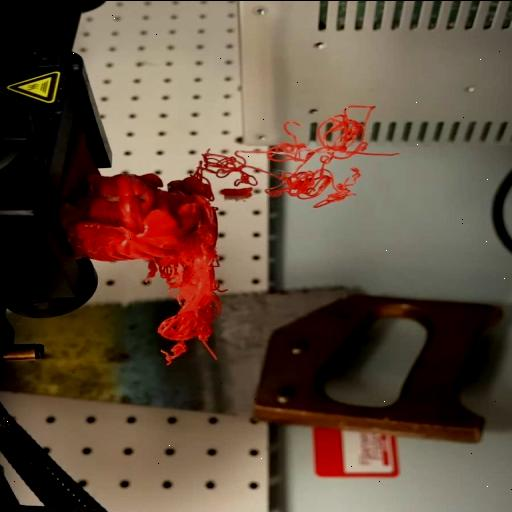spaghetti: (200, 118, 420, 210), (154, 252, 240, 367)
